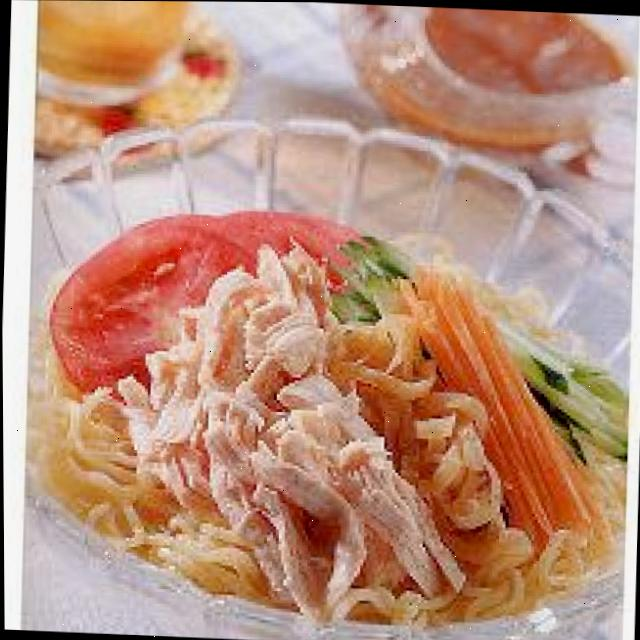面条主食: (28, 192, 627, 640)
